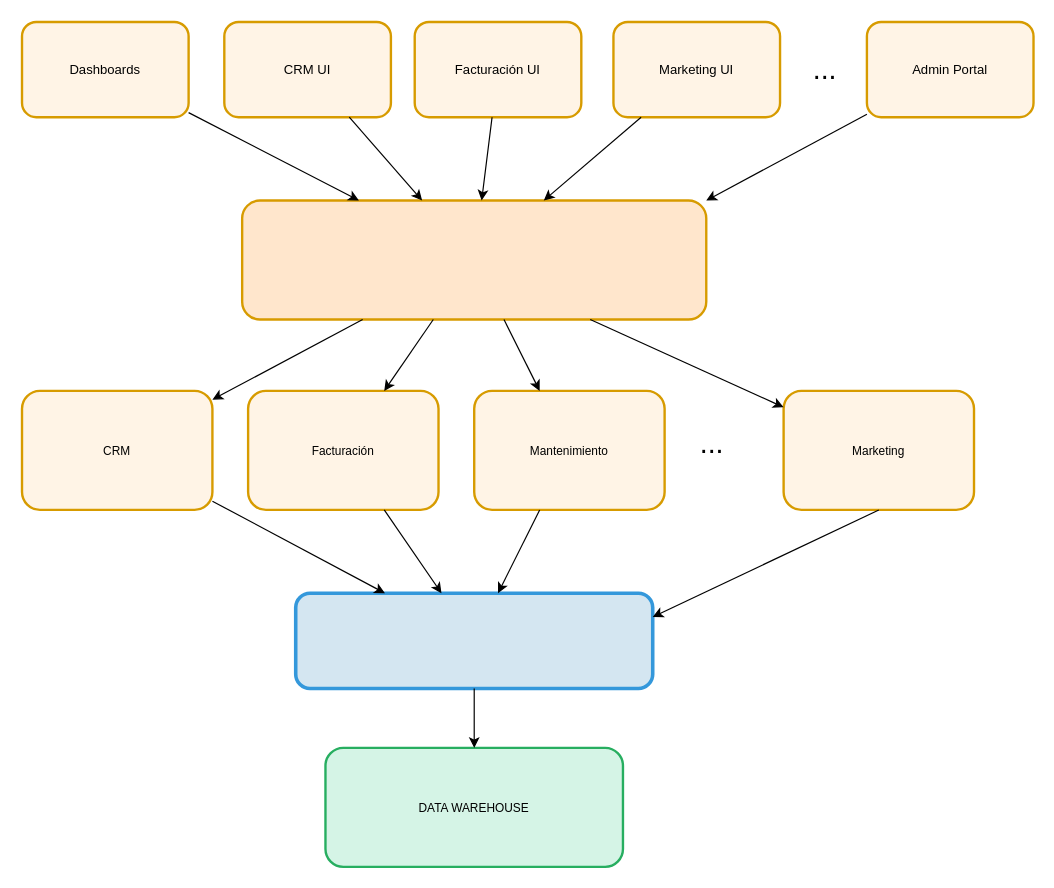
The diagram is 1054 pixels wide and 888 high, and some of its shapes have lost their labels. Here are the shapes that lost their labels. From the top down, the centre of each, then its label:
At (x=473, y=259): "MICROSERVICIOS / APIS".
At (x=473, y=640): "MASTER DATA MANAGEMENT (MDM)".
